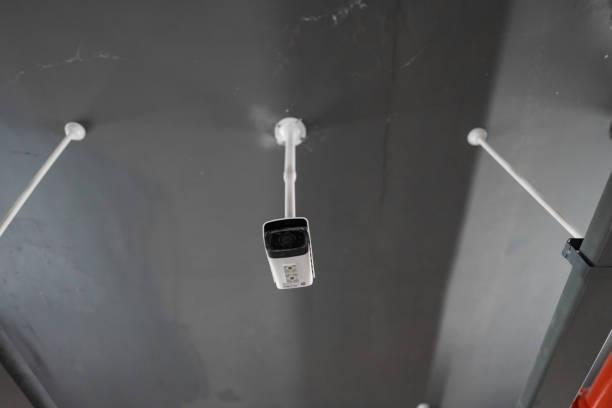camera: (220, 209, 350, 297)
